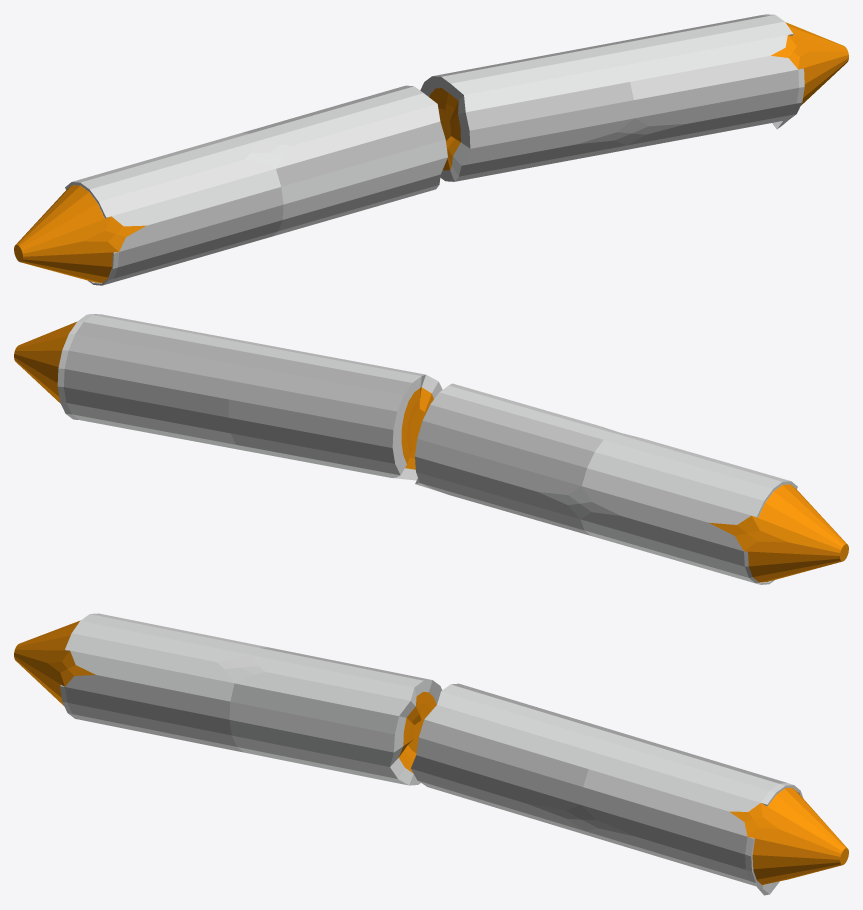
The model's file is Broken log_13.fbx.
3 renders of one model, top to bottom at view 1: azimuth 30°, elevation 25°; view 2: azimuth 150°, elevation 25°; view 3: azimuth 330°, elevation 25°, orthographic.
Visible parts, largest first — view 1: Circle.211, Circle.216; view 2: Circle.211, Circle.216; view 3: Circle.216, Circle.211.
Part boxes in pixels (box(x1,y1,x2,y2)): Circle.211: box(14, 85, 447, 285); Circle.216: box(420, 14, 848, 181); Circle.211: box(415, 383, 848, 584); Circle.216: box(14, 314, 442, 480); Circle.216: box(411, 683, 848, 895); Circle.211: box(14, 613, 442, 785).
Bounding box in the file's own units: 226 × 32.32 × 25.71.
